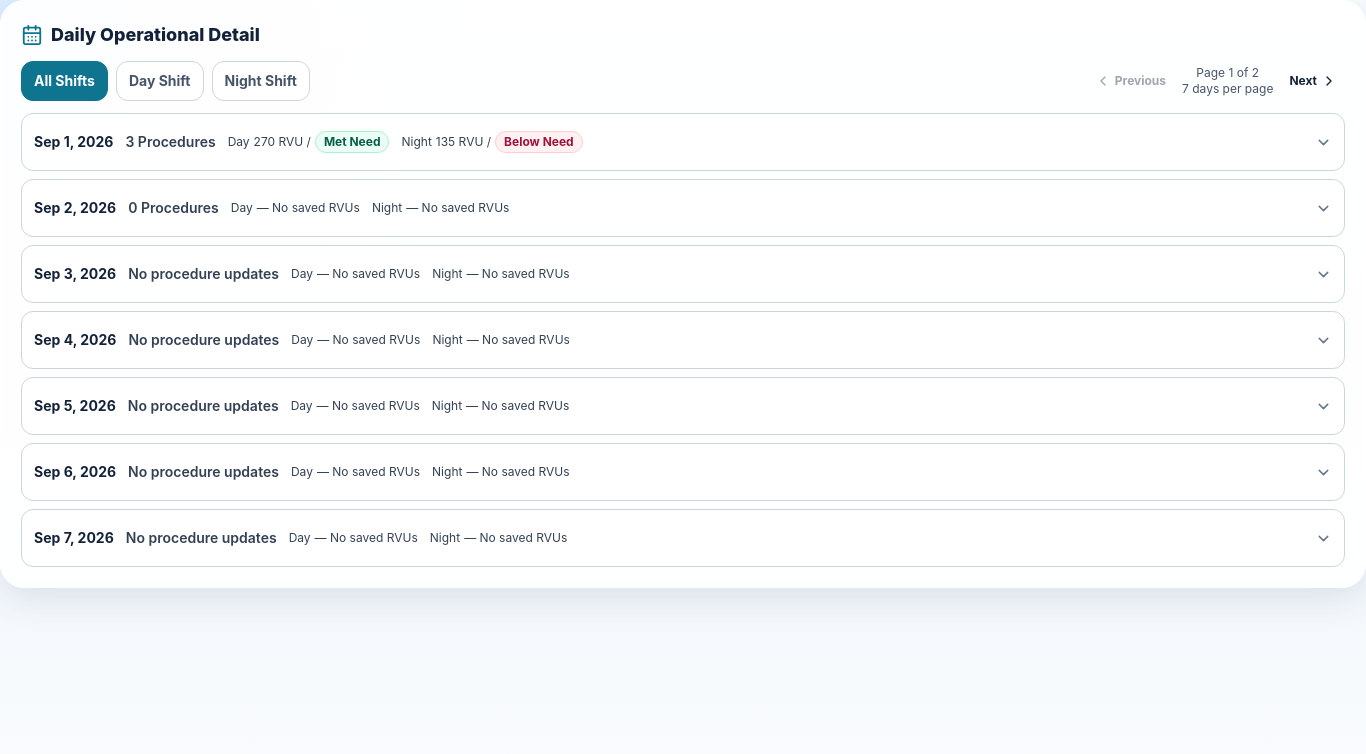
Scenario: shows compact summaries, expands both shifts, and filters applicable procedures
expect the text "RTs Needed" is not shown: met
Click the button "Sep 1, 2026". click: (74, 142)
box: [22,114,1344,170]
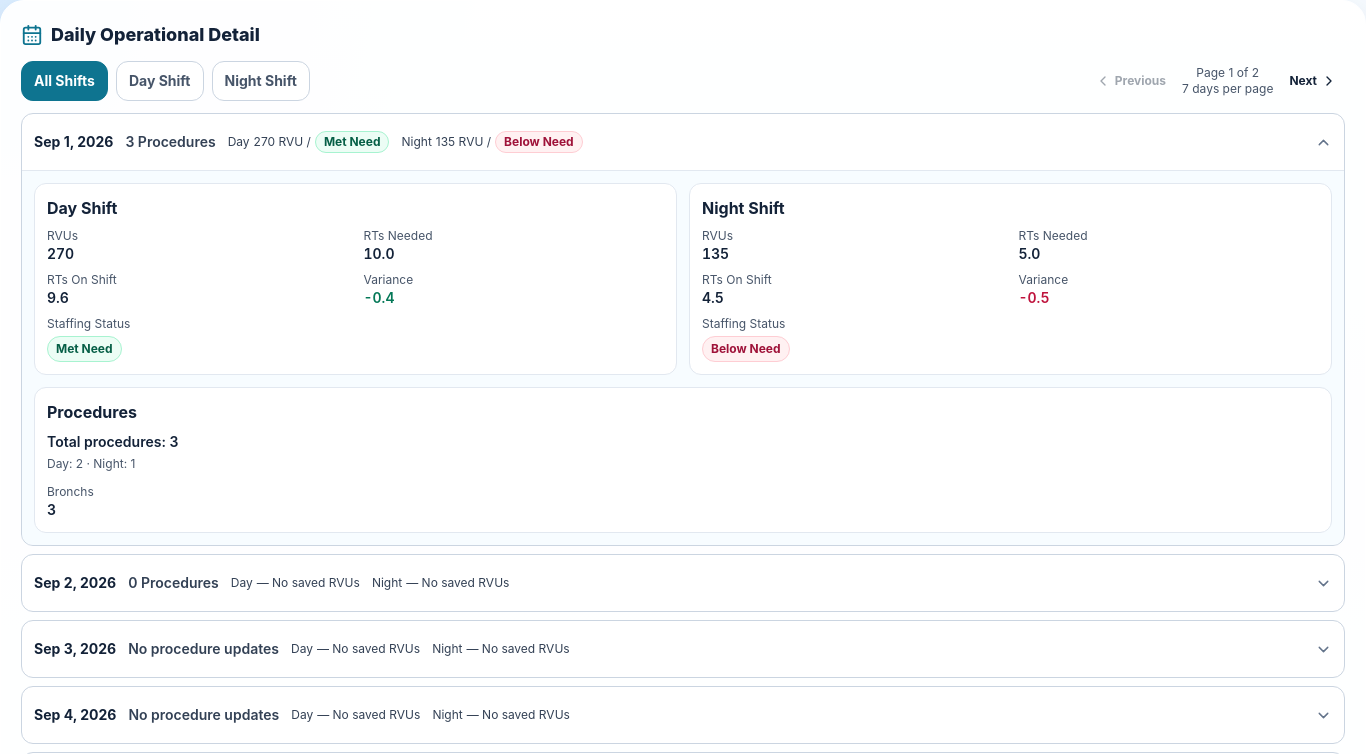
expect the text "RTs Needed" is shown 2 times: met, box [364,228,432,243]; [1018,228,1088,243]
expect the text "Total procedures: 3" is shown: met, box [47,433,178,450]
Click the button "Day Shift". click: (160, 81)
box: [116,61,204,101]
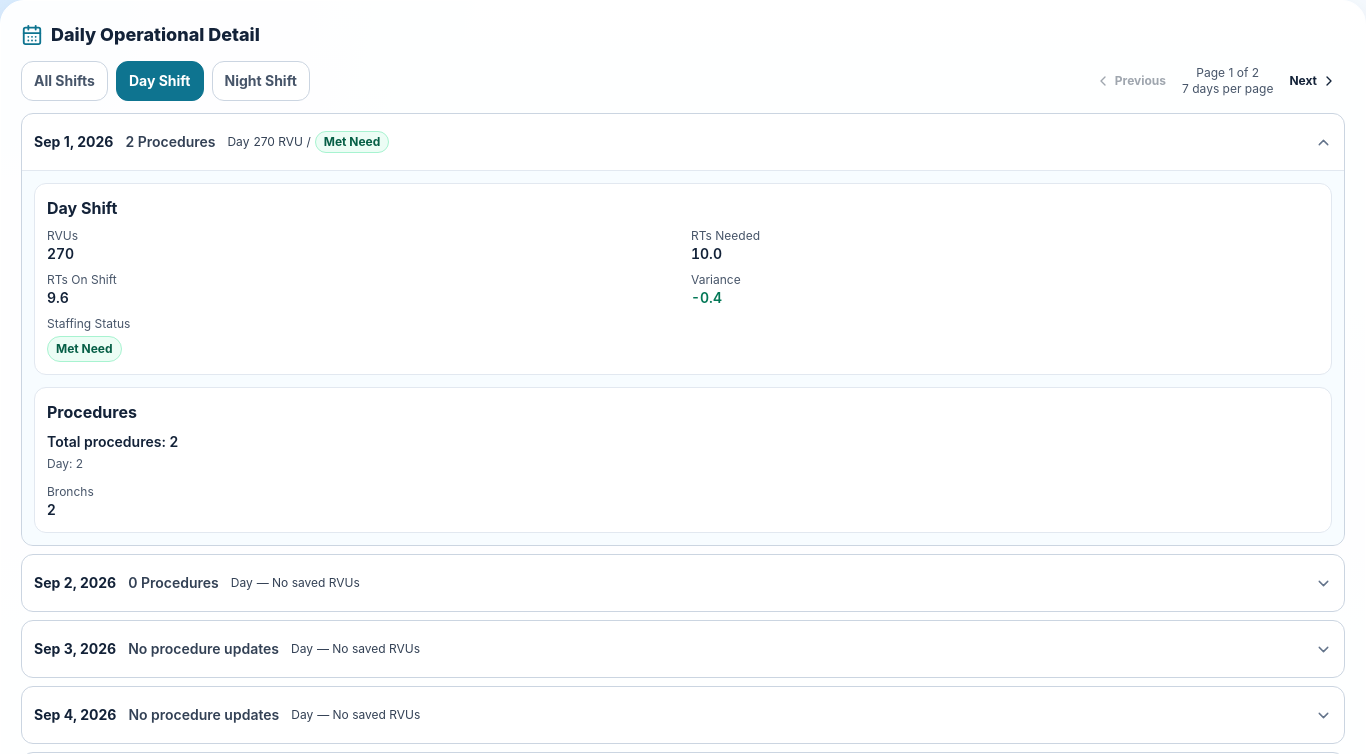
expect the text "Total procedures: 2" is shown: met, box [47,433,178,450]
expect the text "RTs Needed" is shown once: met, box [691,228,760,243]
Click the button "Night Shift". click: (261, 81)
box: [212,61,310,101]
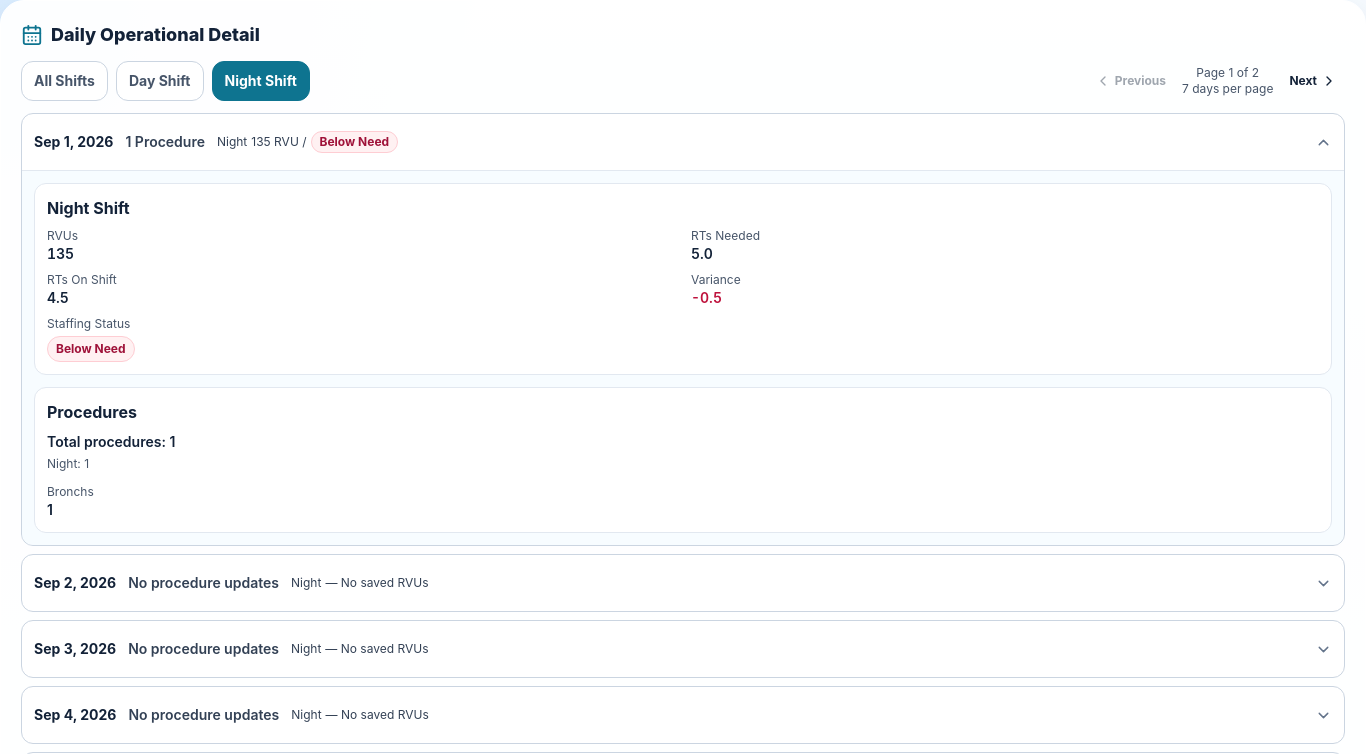
expect the text "Total procedures: 1" is shown: met, box [47,433,175,450]
expect the button "Sep 2, 2026 No procedure updates night — No saved RVUs" is shown: met, box [22,555,1344,611]
